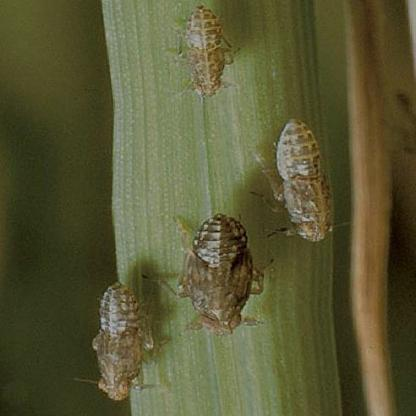brown-planthopper: (184, 213, 258, 335), (272, 118, 334, 242), (93, 283, 148, 400), (183, 6, 230, 96)
